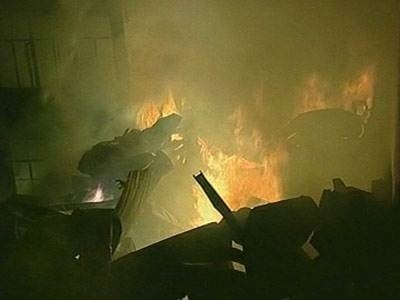fire: (127, 87, 293, 231)
